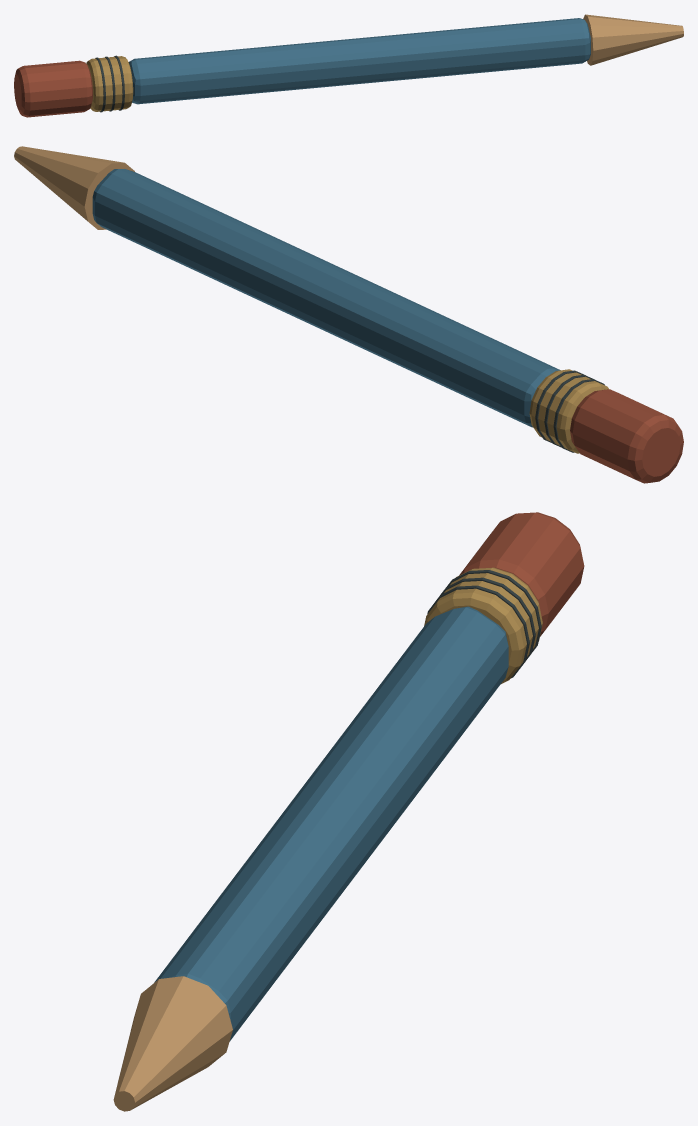
File: prop_blue_pencil.glb
The picture shows the model from 3 angles, top to bottom: view 1: azimuth 30°, elevation 25°; view 2: azimuth 150°, elevation 25°; view 3: azimuth 270°, elevation 25°; orthographic projection. The views are drawn at different scales.
Visible parts, largest first — view 1: blue_pencil; view 2: blue_pencil; view 3: blue_pencil.
Part boxes in pixels (x1,y1,x2,y2): blue_pencil: (14, 14, 683, 117); blue_pencil: (14, 146, 683, 483); blue_pencil: (113, 512, 584, 1111).
Bounding box in the file's own units: 0.8091 × 0.068 × 0.2906.
